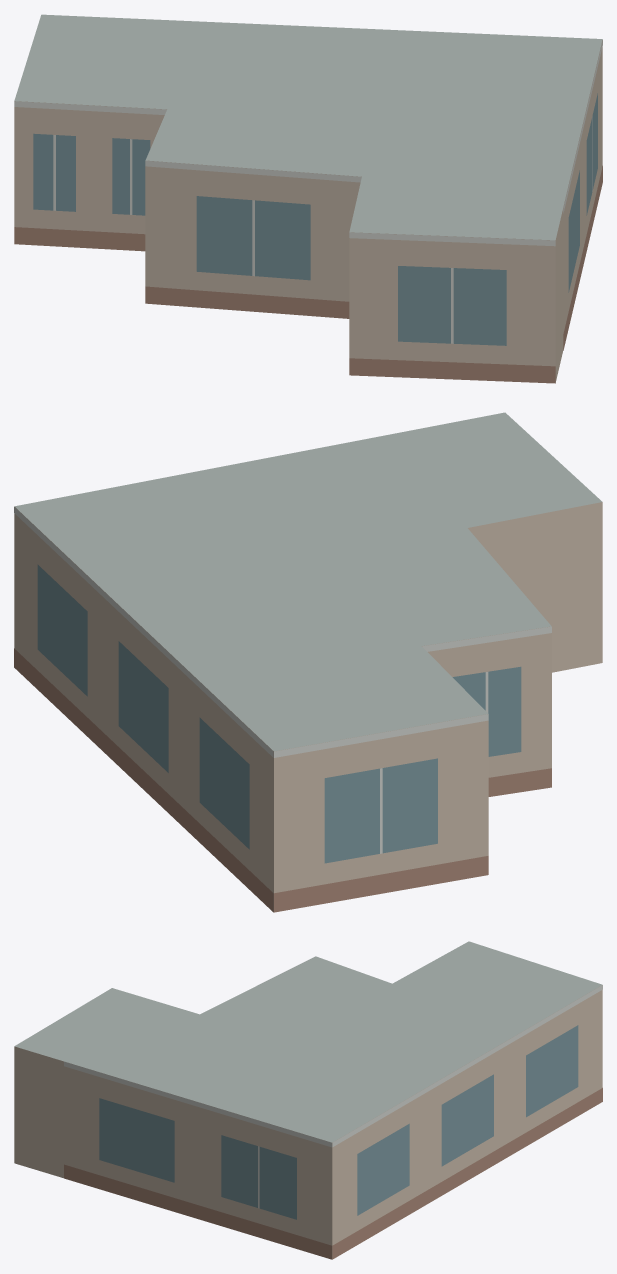
Rendered from survey-upis-32729066.glb.
3 views of the same model, one above another, from view 1: azimuth 30°, elevation 25°; view 2: azimuth 150°, elevation 25°; view 3: azimuth 270°, elevation 25° (orthographic). The views are drawn at different scales.
Visible parts, largest first — view 1: survey-upis-32729066.tmp; view 2: survey-upis-32729066.tmp; view 3: survey-upis-32729066.tmp.
Boxes of the visible parts, x1=… form: survey-upis-32729066.tmp: x1=14, y1=14, x2=602, y2=383; survey-upis-32729066.tmp: x1=14, y1=412, x2=602, y2=912; survey-upis-32729066.tmp: x1=14, y1=941, x2=602, y2=1259.
Size of the model in its own units: 11.28 by 3.05 by 13.92.
